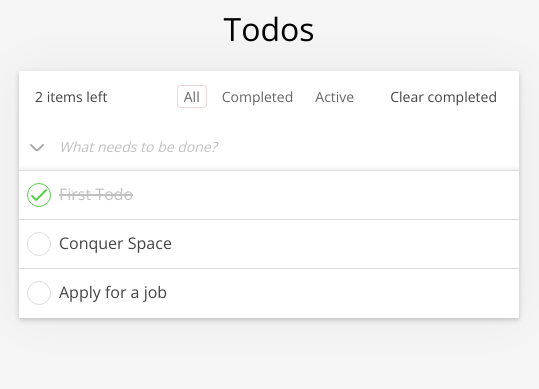
Test: App › рендерит вновь добавленную задачу
In the field: (287,146) [55,130,519,162], type "newTodo"
Then press Enter
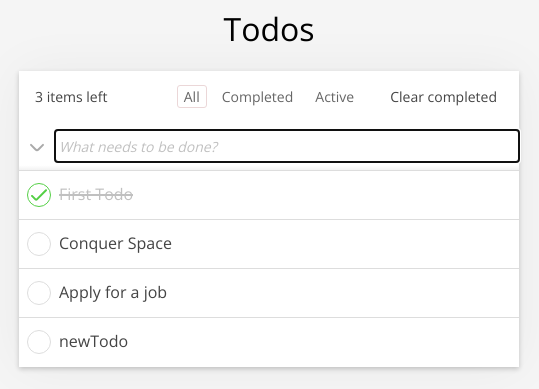
Expected: the text "newTodo" is shown, [59,330,128,354]
